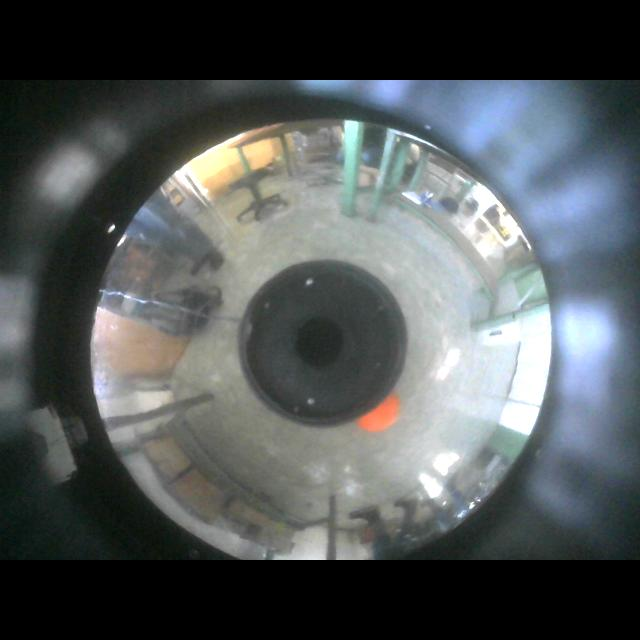bola: (355, 391, 401, 431)
